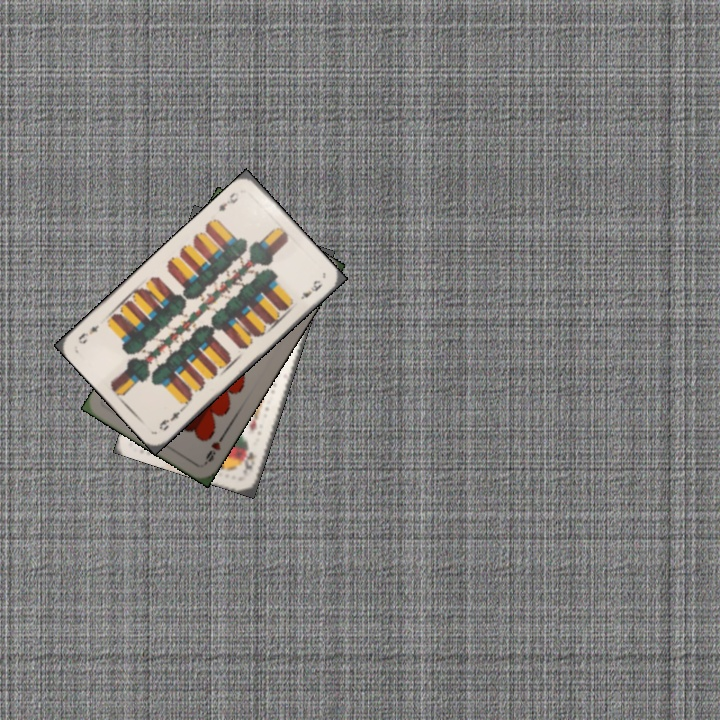E9: (155, 403, 187, 433), (215, 188, 241, 214)
H9: (201, 430, 227, 467)
SK: (239, 448, 258, 476)
